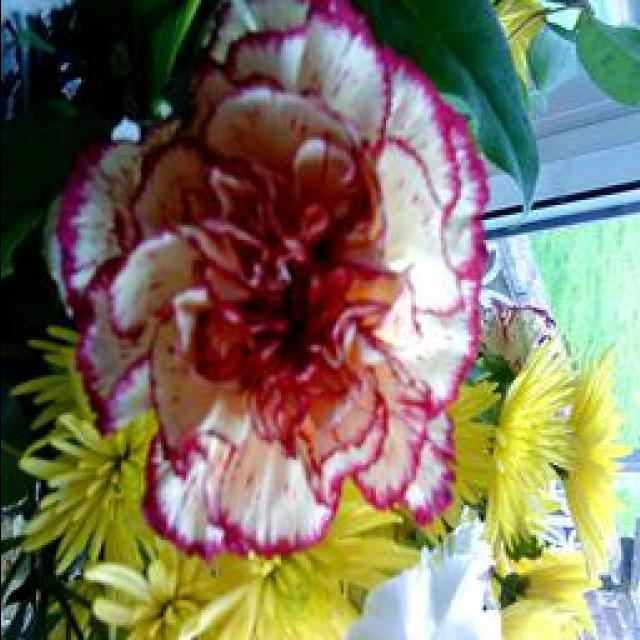carnation: (48, 21, 496, 556)
